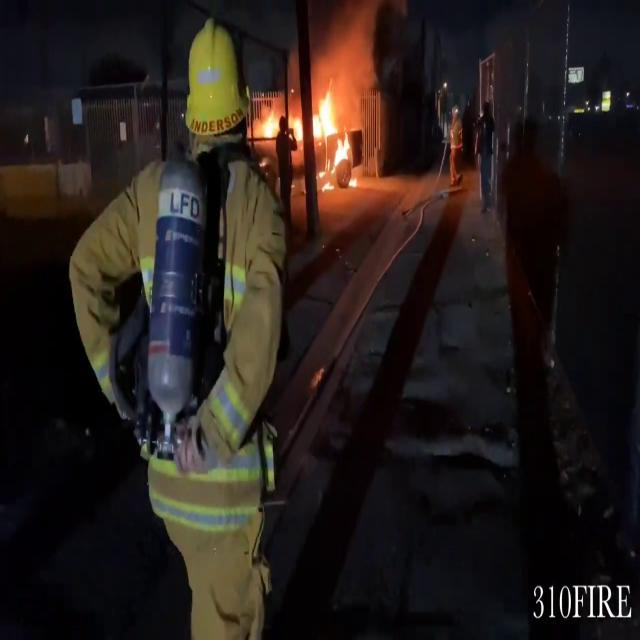Fire: (301, 76, 360, 198)
